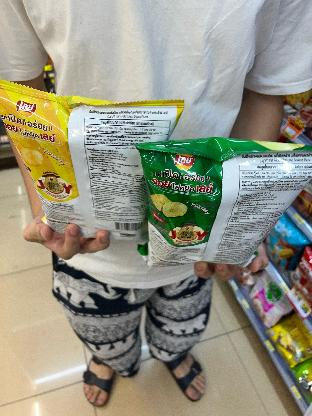Plastic Packaging: (0, 80, 188, 256), (140, 134, 312, 268)
